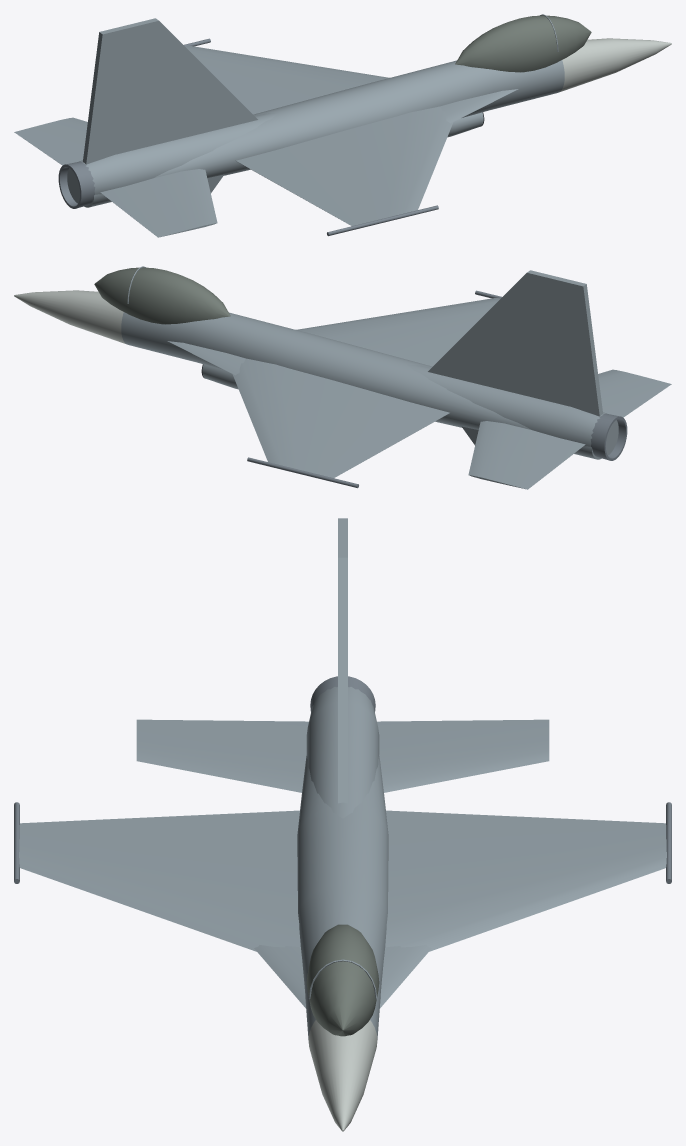
The model's file is usaf_fighter_f16c.glb.
3 views of the same model, one above another, from view 1: azimuth 30°, elevation 25°; view 2: azimuth 150°, elevation 25°; view 3: azimuth 270°, elevation 25° (orthographic). The views are drawn at different scales.
Visible parts, largest first — view 1: airframe, canopy_gold, array_face, titanium; view 2: airframe, canopy_gold, array_face, titanium; view 3: airframe, canopy_gold, array_face, titanium.
Boxes of the visible parts, <box> form: airframe: <box>14,14,564,237</box>; canopy_gold: <box>455,15,591,72</box>; array_face: <box>560,38,671,91</box>; titanium: <box>58,38,438,236</box>; airframe: <box>121,266,671,489</box>; canopy_gold: <box>94,267,230,324</box>; array_face: <box>14,290,125,343</box>; titanium: <box>247,290,627,488</box>; airframe: <box>19,518,666,1039</box>; canopy_gold: <box>306,924,379,1036</box>; array_face: <box>308,1020,377,1131</box>; titanium: <box>14,676,671,883</box>.
Bounding box in the file's own units: 10 × 3.18 × 6.62.
